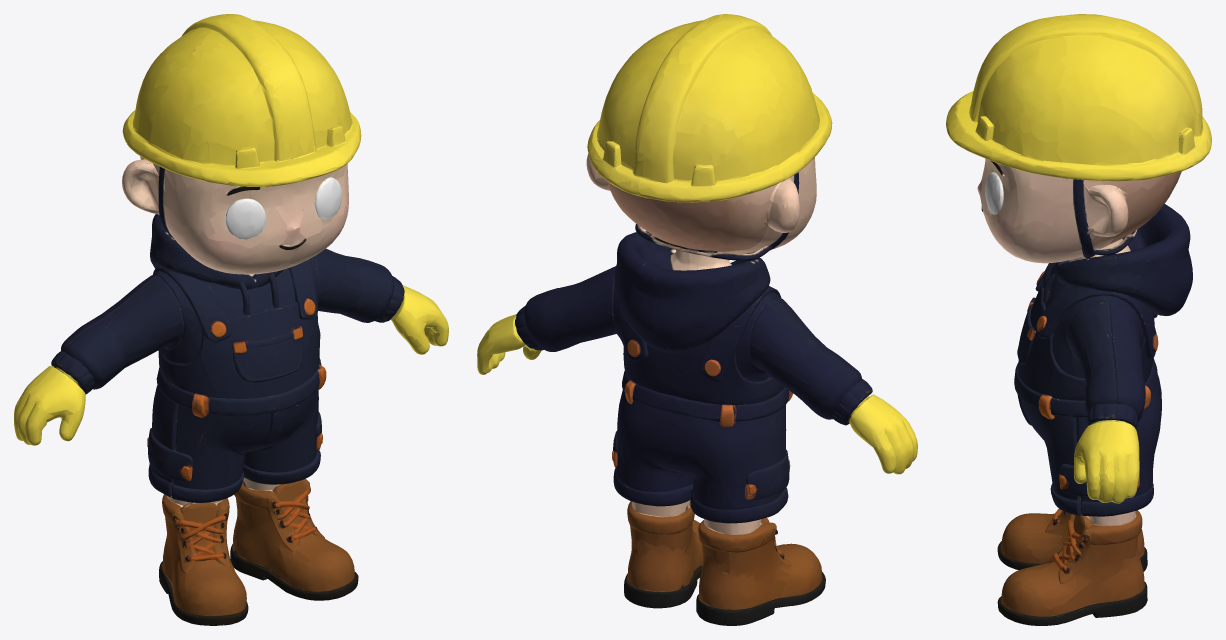
Rendered from avatar_workwear_static.glb.
The picture shows the model from 3 angles, left to right: view 1: azimuth 30°, elevation 25°; view 2: azimuth 150°, elevation 25°; view 3: azimuth 270°, elevation 25°; orthographic projection.
Size of the model in its own units: 1.52 by 1.9 by 0.812.
Materials: 1 (1 with a texture image).
